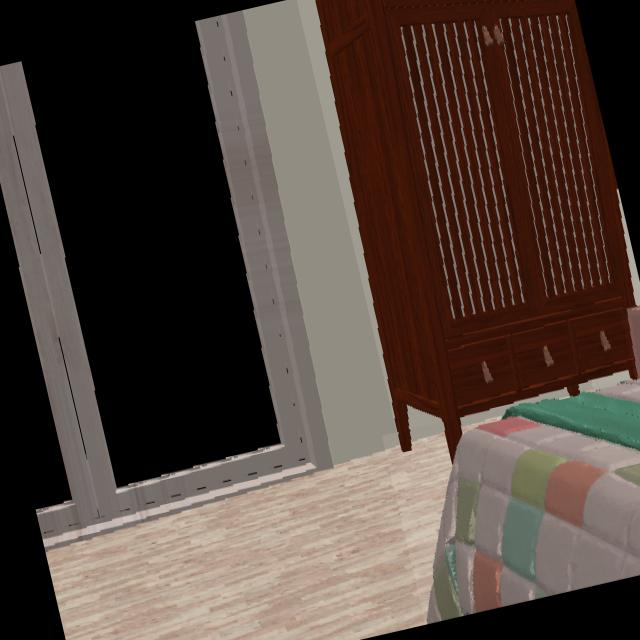bed: (425, 379, 640, 623)
nighttable: (627, 304, 640, 379)
wardrobe: (316, 0, 638, 460)
